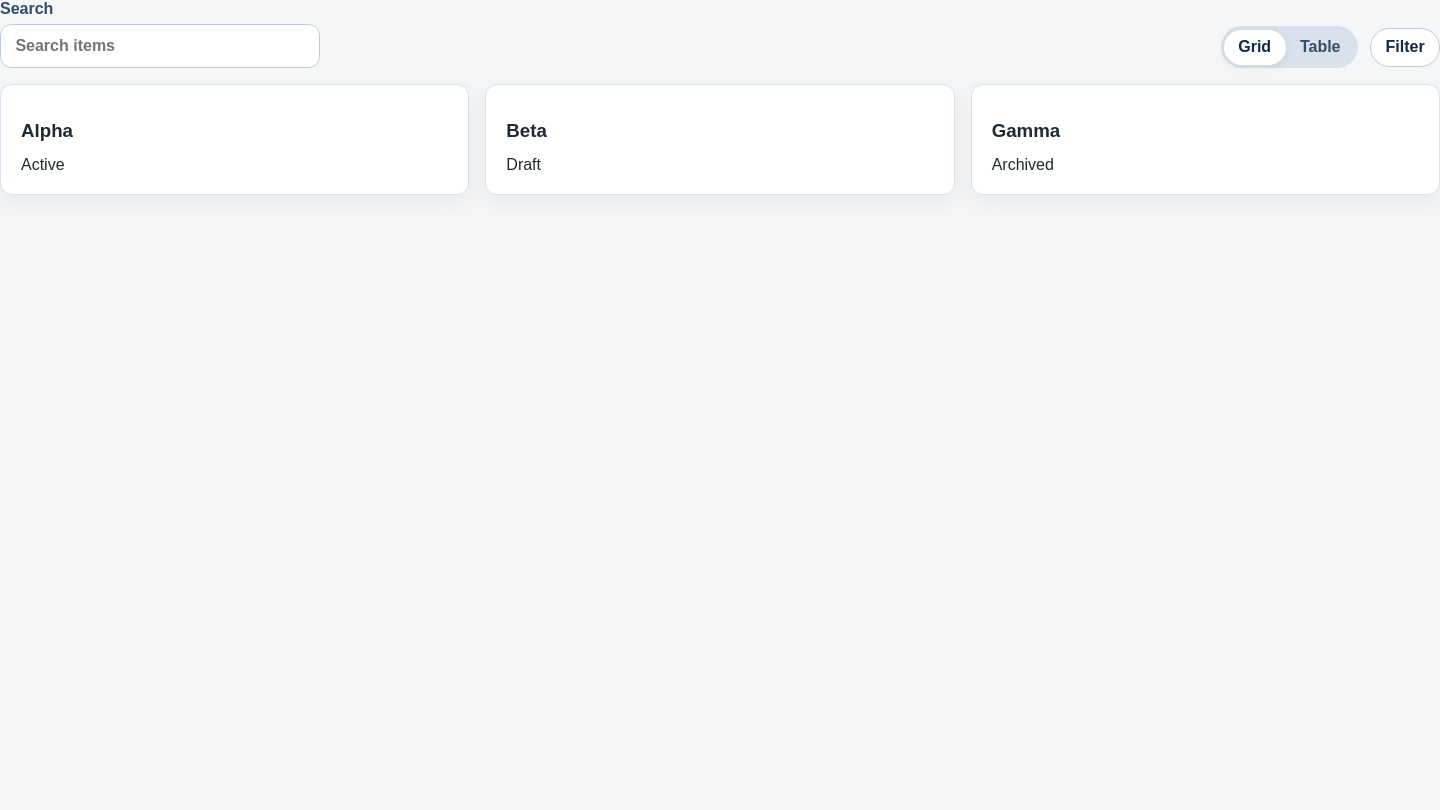
Test: DataViewComponent Phase 1 filtering › filters displayed rows with string expressions
Click the button with class "data-view__filter-button": (1405, 47) x1=1370 y1=28 x2=1439 y2=67
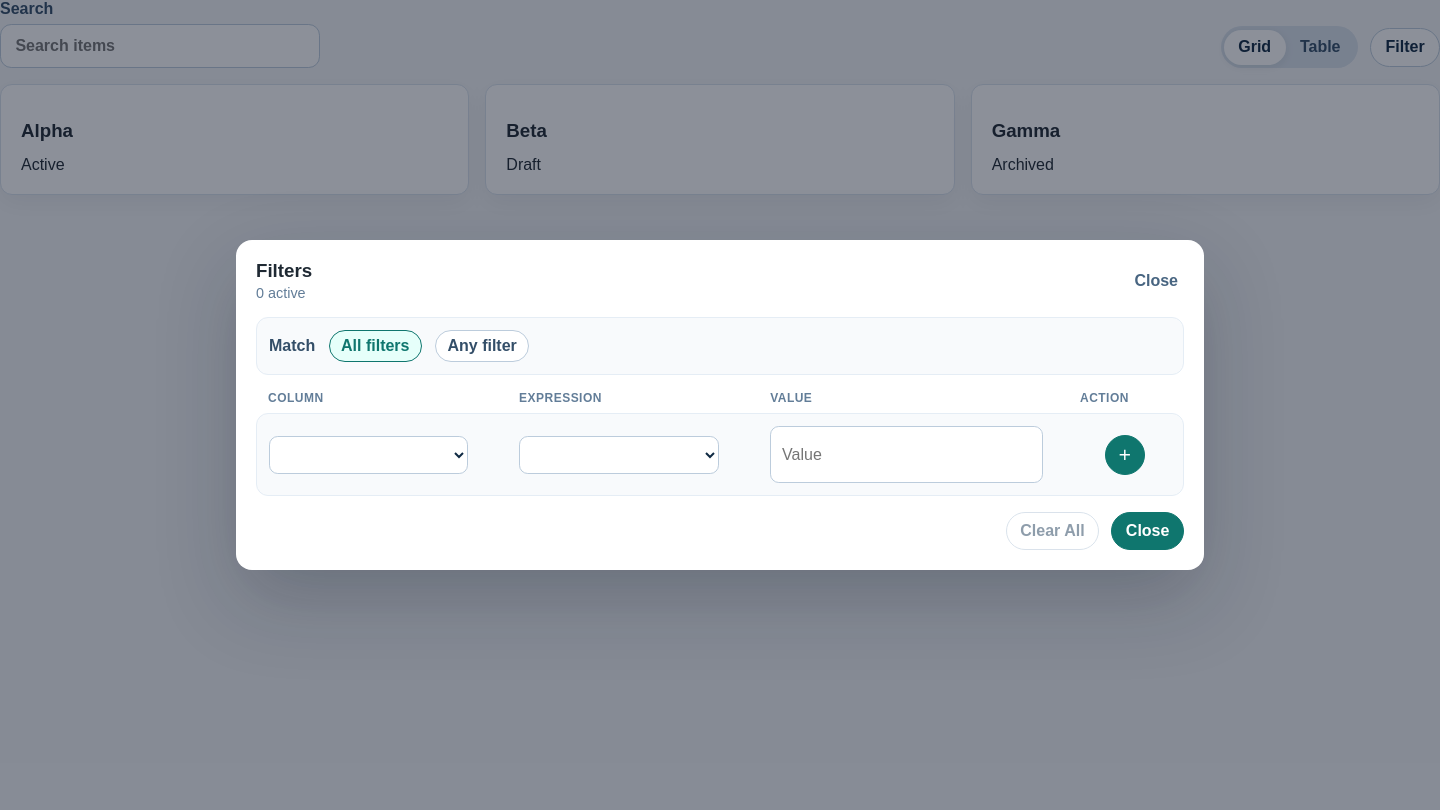
Select "Name" in the 1st dropdown: (369, 455) x1=269 y1=436 x2=468 y2=474
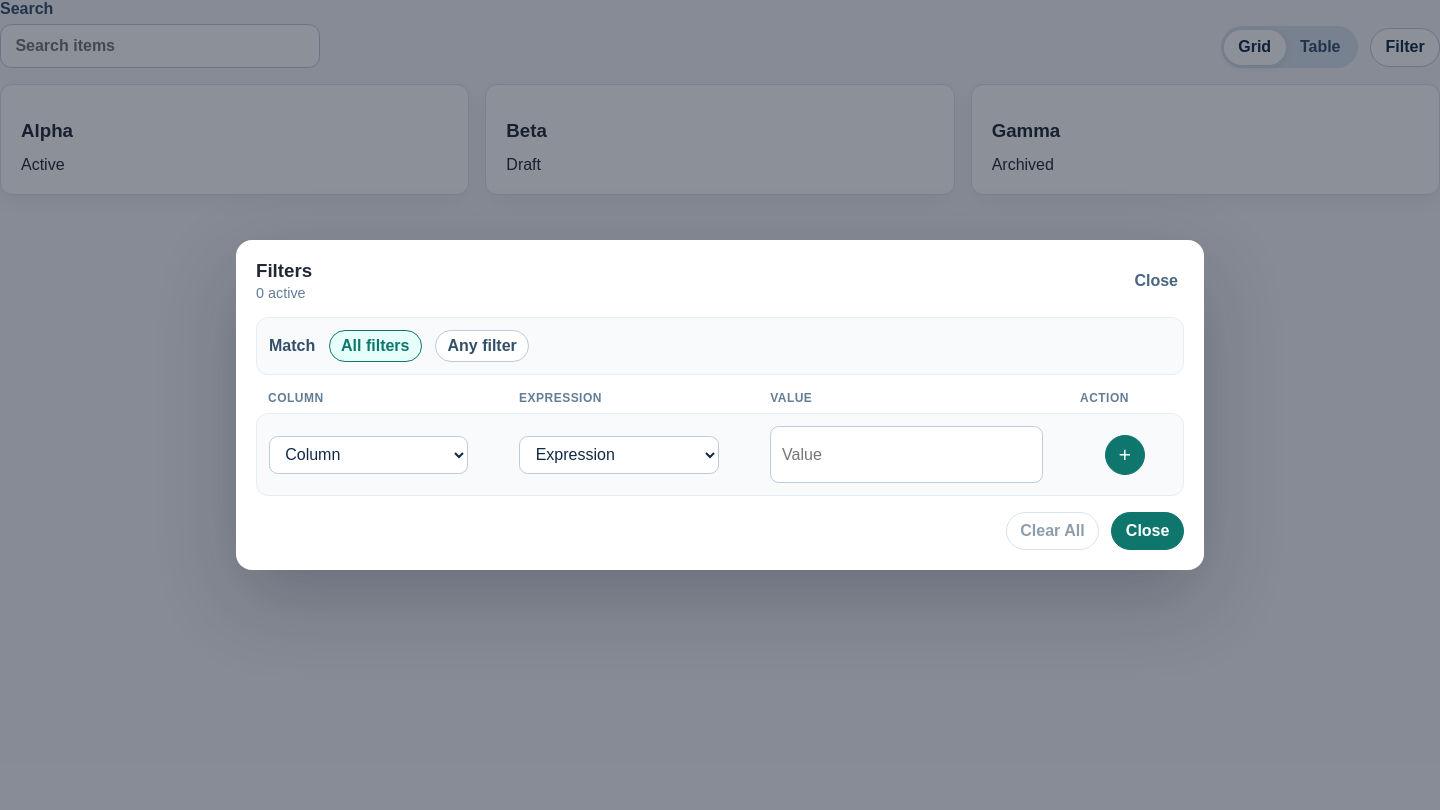
Select "Contains" in the 2nd dropdown: (619, 455) x1=520 y1=436 x2=719 y2=474
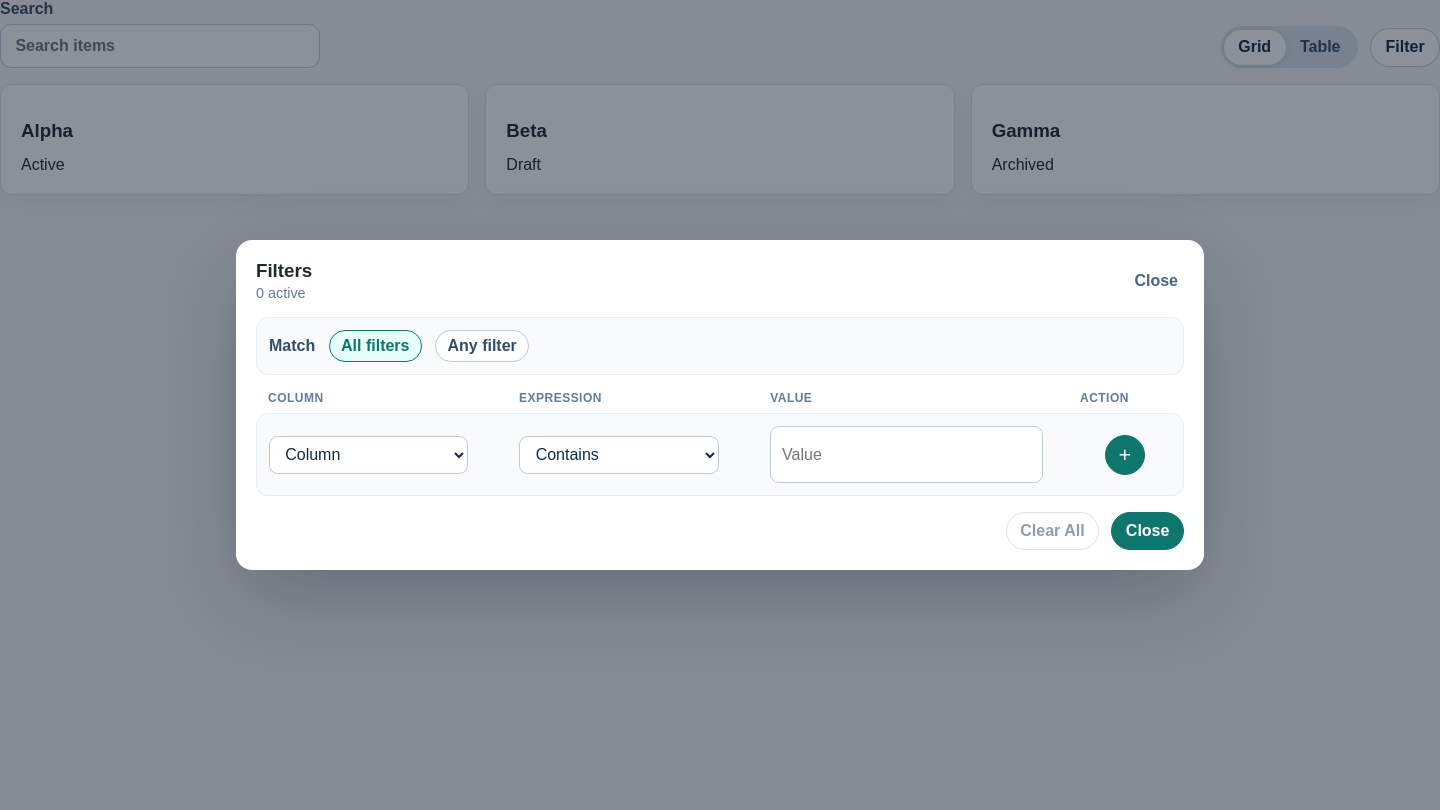
In the field with placeholder "Value": (907, 455) x1=770 y1=426 x2=1043 y2=483, type "alp"
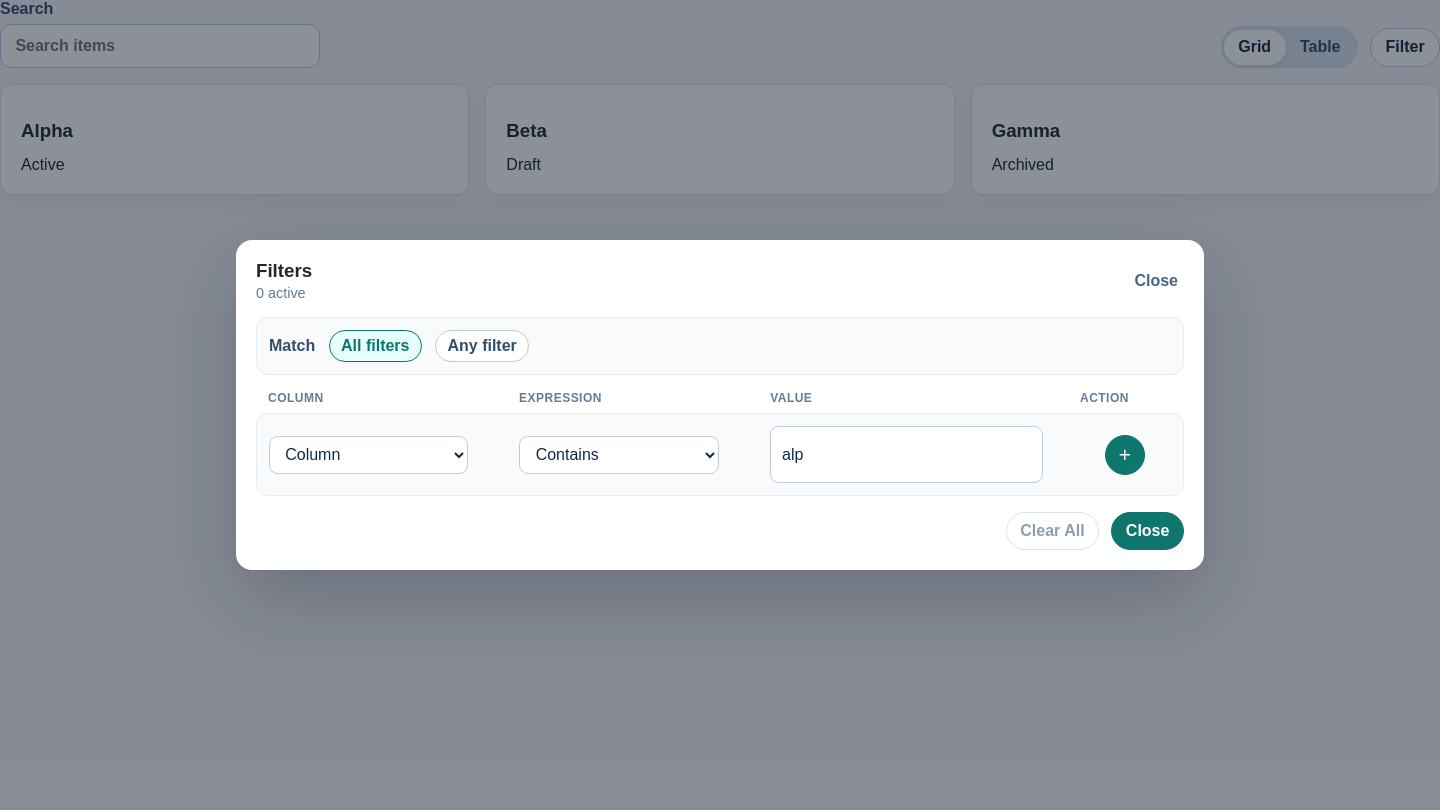
Click the button with class "data-view__filter-add": (1125, 455) x1=1105 y1=435 x2=1145 y2=475
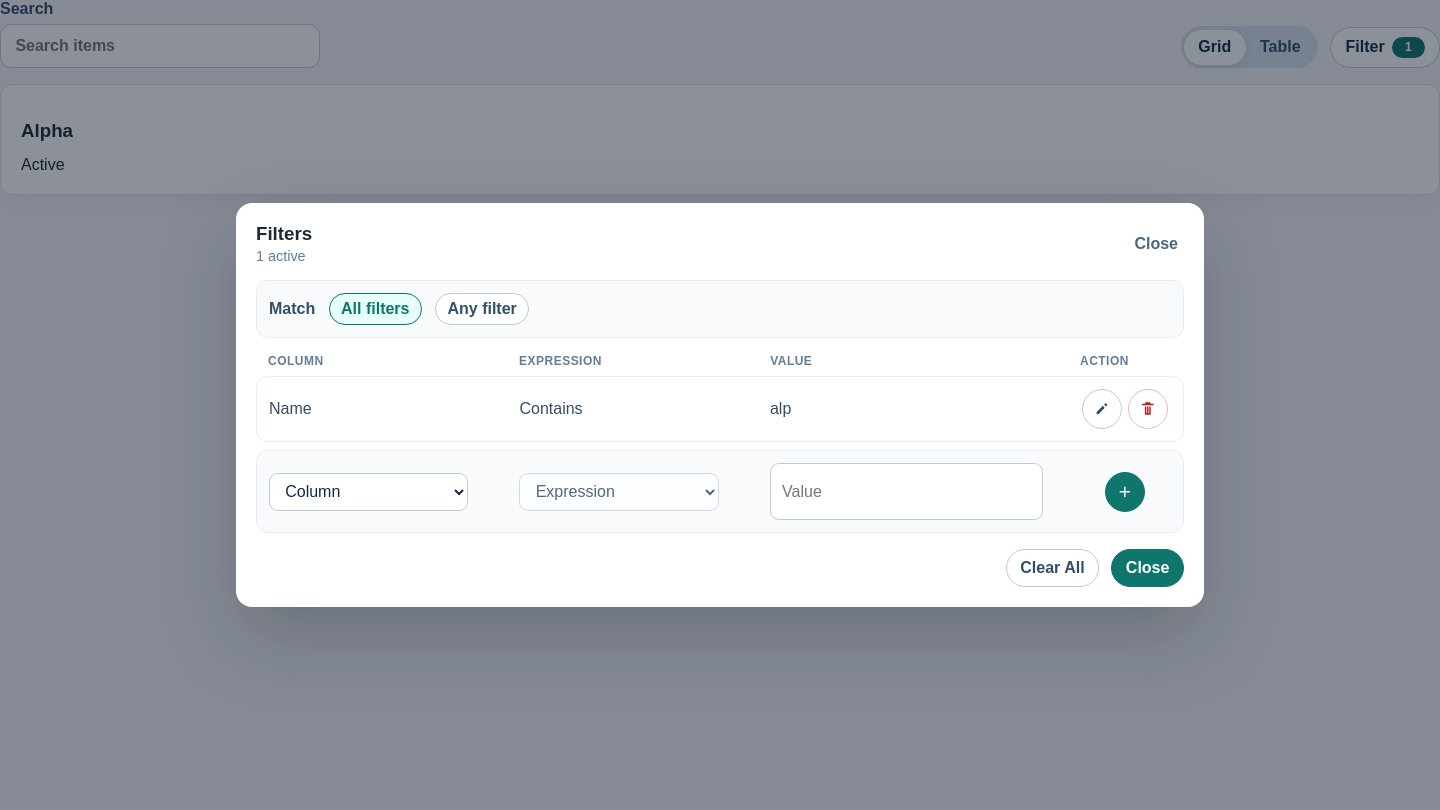
Result: the number of elements with class "data-view__card" is 1 at x1=0 y1=84 x2=1439 y2=195
Result: the text "Beta" is gone
Result: the text "Gamma" is gone
